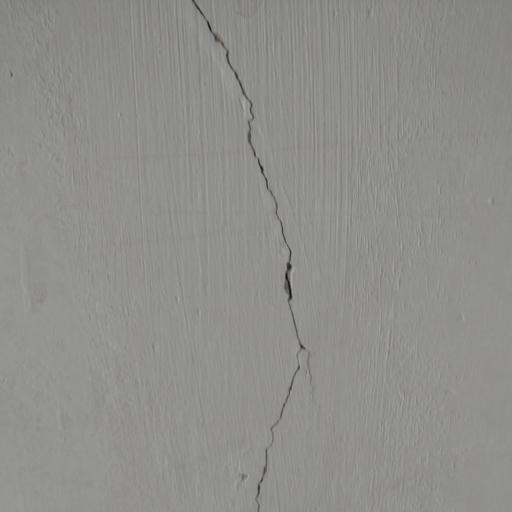major_crack: (174, 0, 319, 512)
